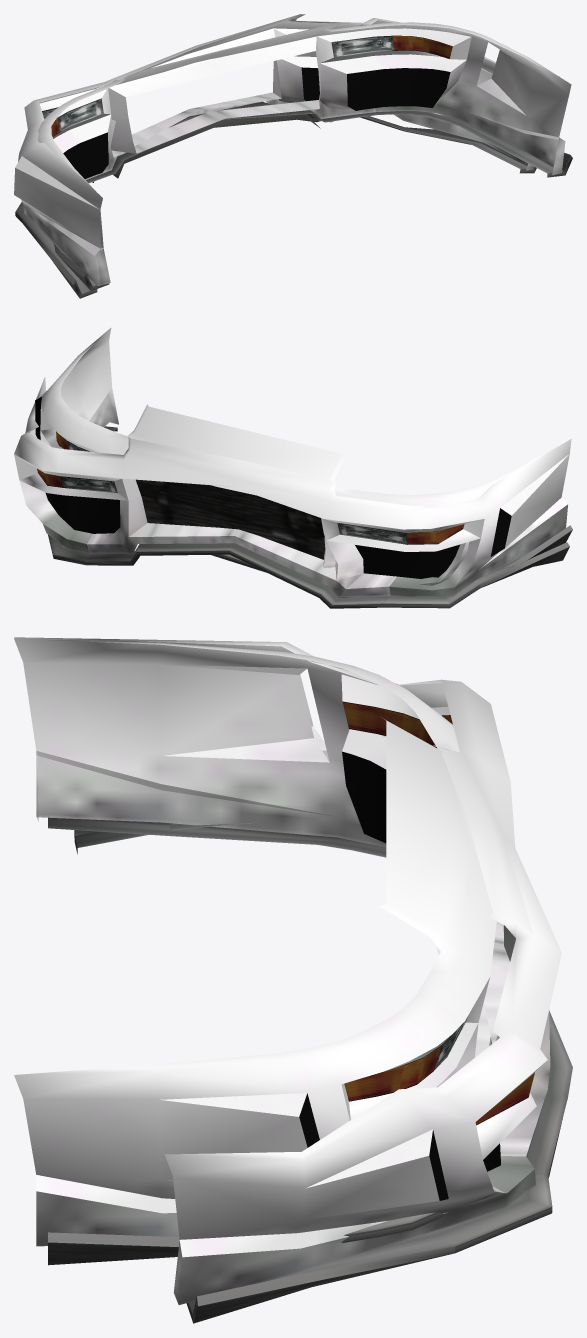
The model's file is fbmp_a_j.glb.
The picture shows the model from 3 angles, top to bottom: view 1: azimuth 30°, elevation 25°; view 2: azimuth 150°, elevation 25°; view 3: azimuth 270°, elevation 25°; orthographic projection. The views are drawn at different scales.
Visible parts, largest first — view 1: fbmp_a_j, fbmp_a_j_dam; view 2: fbmp_a_j_dam, fbmp_a_j; view 3: fbmp_a_j, fbmp_a_j_dam.
Boxes of the visible parts, x1=… form: fbmp_a_j: x1=37, y1=22, x2=572, y2=290; fbmp_a_j_dam: x1=14, y1=14, x2=559, y2=298; fbmp_a_j_dam: x1=14, y1=377, x2=571, y2=608; fbmp_a_j: x1=35, y1=328, x2=572, y2=597; fbmp_a_j: x1=14, y1=638, x2=496, y2=1265; fbmp_a_j_dam: x1=14, y1=637, x2=572, y2=1323.
Size of the model in its own units: 2.38 by 0.6659 by 1.18.
Materials: 4 (4 with a texture image).
